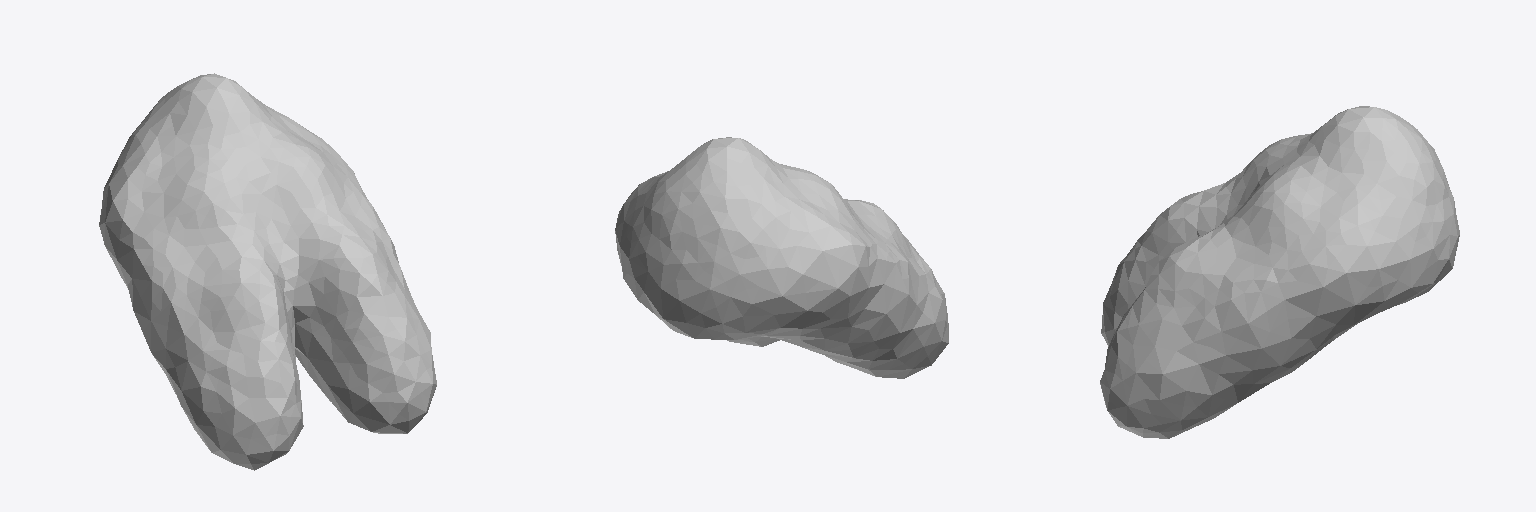
File: Hand.obj
3 views of the same model, side by side, from view 1: azimuth 30°, elevation 25°; view 2: azimuth 150°, elevation 25°; view 3: azimuth 270°, elevation 25° (orthographic).
Visible parts, largest first — view 1: Quad_Sphere; view 2: Quad_Sphere; view 3: Quad_Sphere.
Part boxes in pixels (x1,y1,x2,y2): Quad_Sphere: (99, 73, 436, 470); Quad_Sphere: (615, 137, 948, 378); Quad_Sphere: (1100, 106, 1459, 438).
Size of the model in its own units: 0.9602 by 1.09 by 1.22.